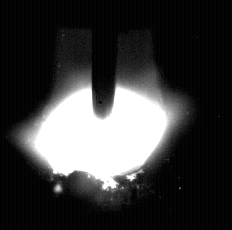arame: (92, 0, 117, 118)
poca: (36, 0, 163, 230)
